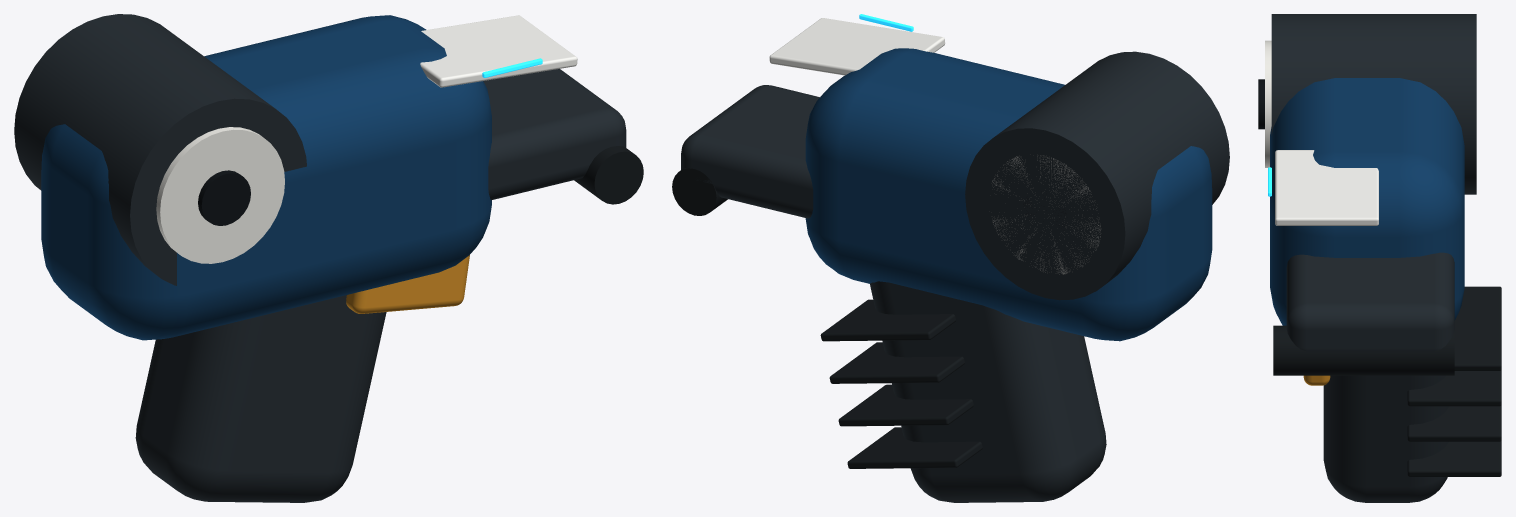
Rendered from label-applicator.glb.
3 views of the same model, side by side, from view 1: azimuth 30°, elevation 25°; view 2: azimuth 150°, elevation 25°; view 3: azimuth 270°, elevation 25° (orthographic). The views are drawn at different scales.
Parts seen in each view (by area): view 1: Applicator housing, Ergonomic handle, Label roll housing, Dispensing nose, Label roll, Loaded label, Trigger, Premium handheld label applicator, Application roller; view 2: Applicator housing, Label roll housing, Ergonomic handle, Premium handheld label applicator, Dispensing nose, Loaded label, Application roller, Label roll; view 3: Applicator housing, Label roll housing, Dispensing nose, Ergonomic handle, Premium handheld label applicator, Loaded label, Application roller, Label roll.
Boxes of the visible parts, x1,y1,x2,y2 form: Applicator housing: (41,15,491,340); Ergonomic handle: (135,295,386,502); Label roll housing: (14,14,306,285); Dispensing nose: (483,69,626,200); Label roll: (156,127,284,263); Loaded label: (420,15,577,87); Trigger: (346,255,469,313); Premium handheld label applicator: (198,58,542,225); Application roller: (574,146,643,204); Applicator housing: (805,48,1212,341); Label roll housing: (965,51,1229,300); Ergonomic handle: (870,281,1106,502); Premium handheld label applicator: (820,14,1065,468); Dispensing nose: (681,85,819,218); Loaded label: (769,18,945,75); Application roller: (672,168,727,215); Label roll: (992,155,1100,274); Applicator housing: (1270,78,1464,325); Label roll housing: (1271,14,1476,194); Dispensing nose: (1286,252,1454,351); Ergonomic handle: (1323,375,1449,502); Premium handheld label applicator: (1258,79,1501,476); Loaded label: (1275,150,1378,225); Application roller: (1273,325,1454,375); Label roll: (1265,40,1271,167).
Size of the model in its own units: 1.59 by 1.37 by 0.725.
